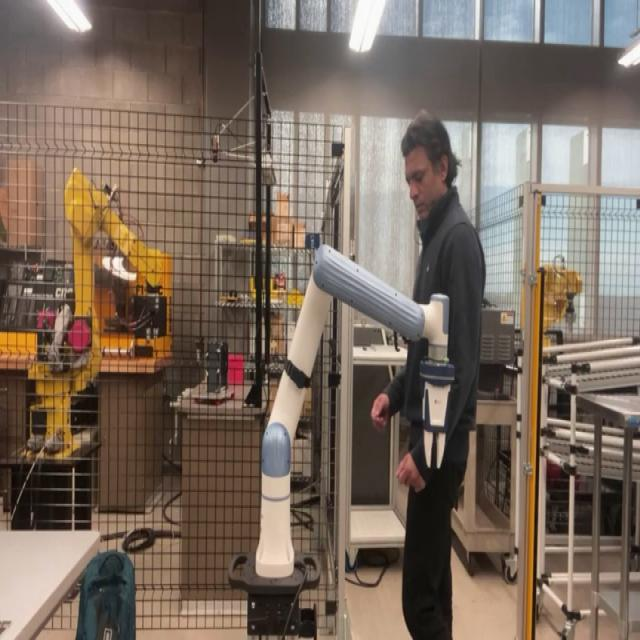robot: (244, 232, 459, 601)
